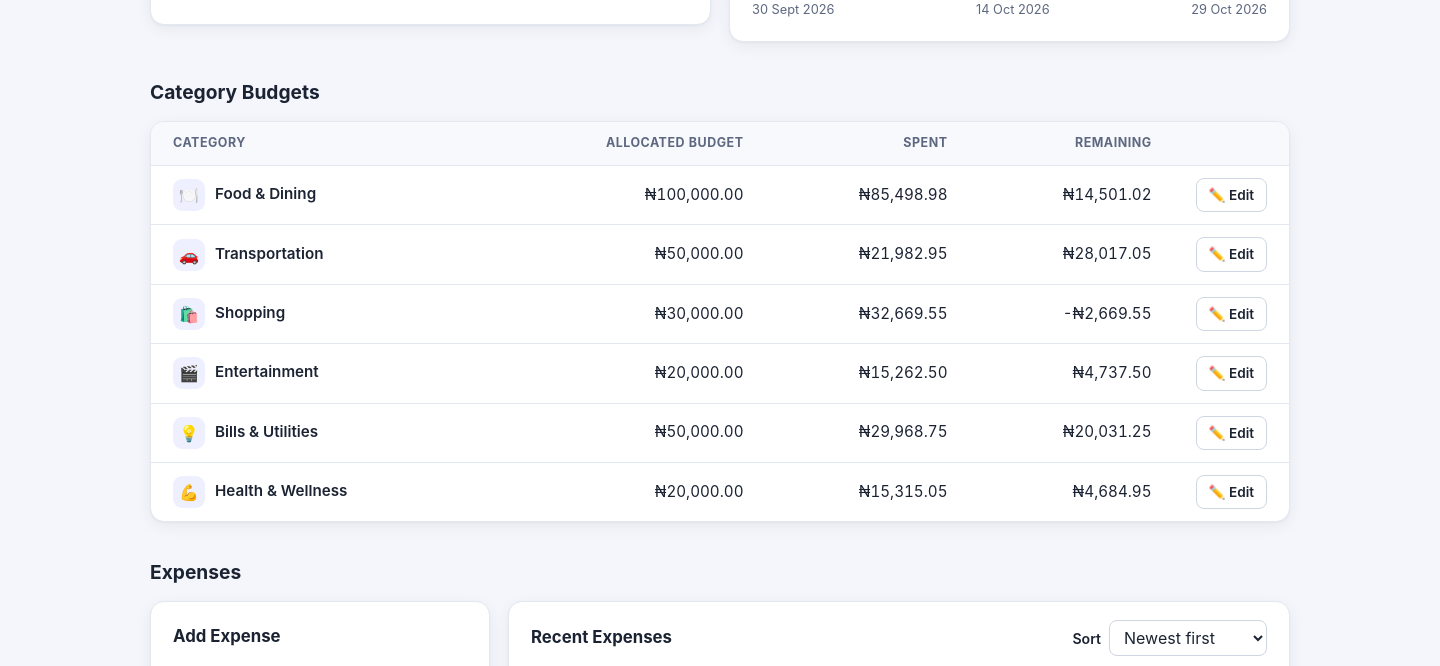
Test: App › category budgets › rejects a negative budget
(page scrolled)
Click the button with aria-label "Edit budget for Shopping" at x=1231, y=314, box x1=1196 y1=297 x2=1267 y2=331
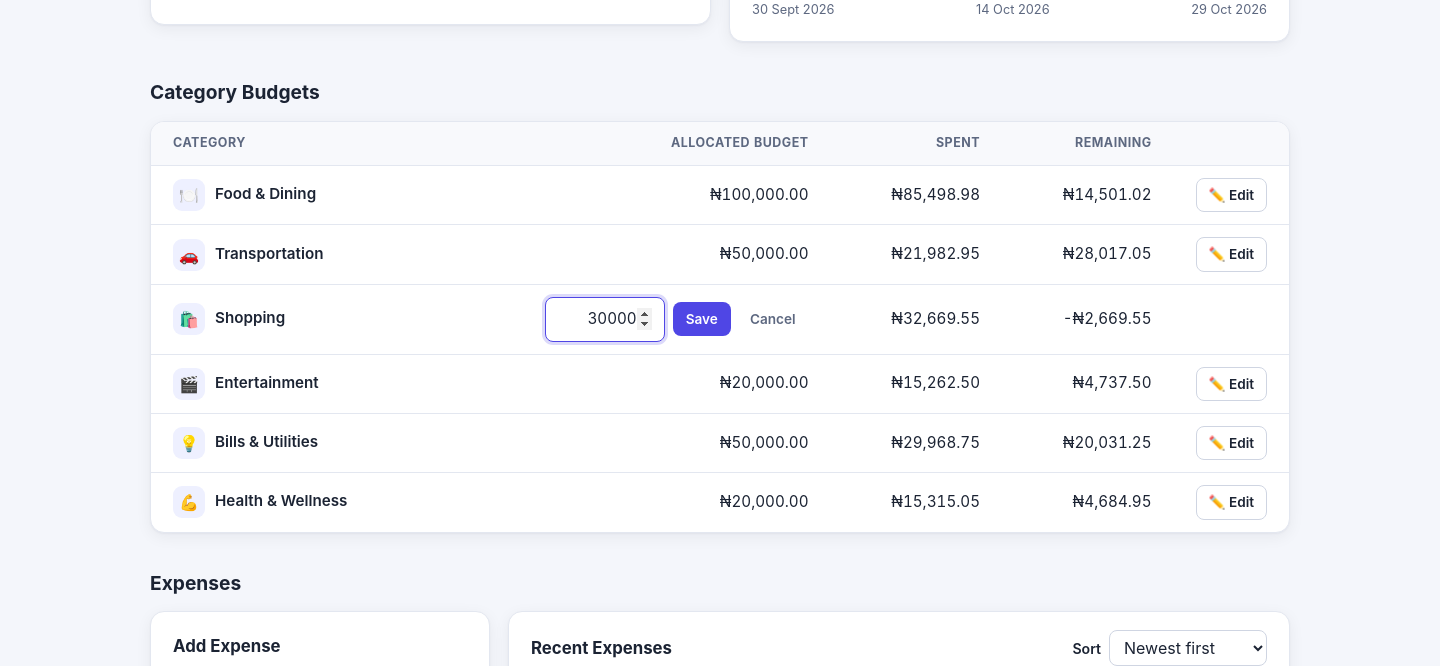
Replace the text in the number field named "Allocated budget for Shopping" with "-5" at x=605, y=319, box x1=545 y1=297 x2=665 y2=342
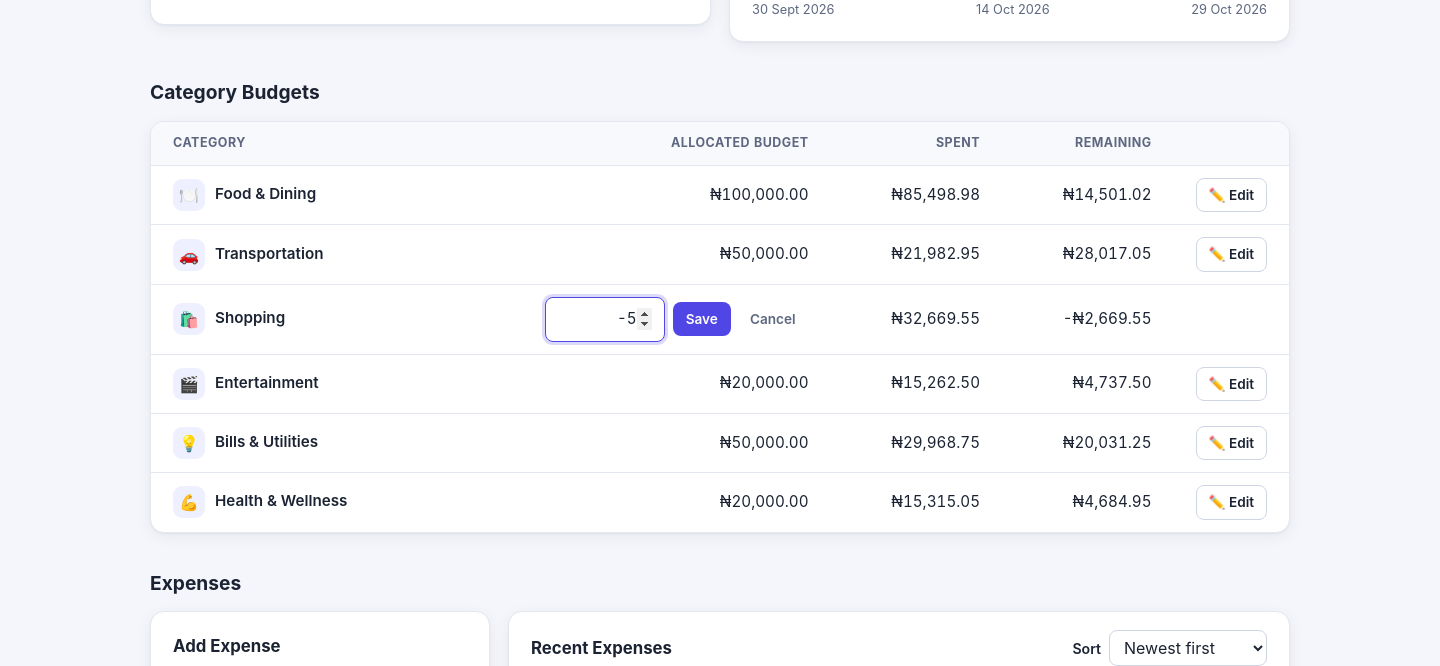
Click the button "Save" at x=702, y=319, box x1=673 y1=302 x2=731 y2=336
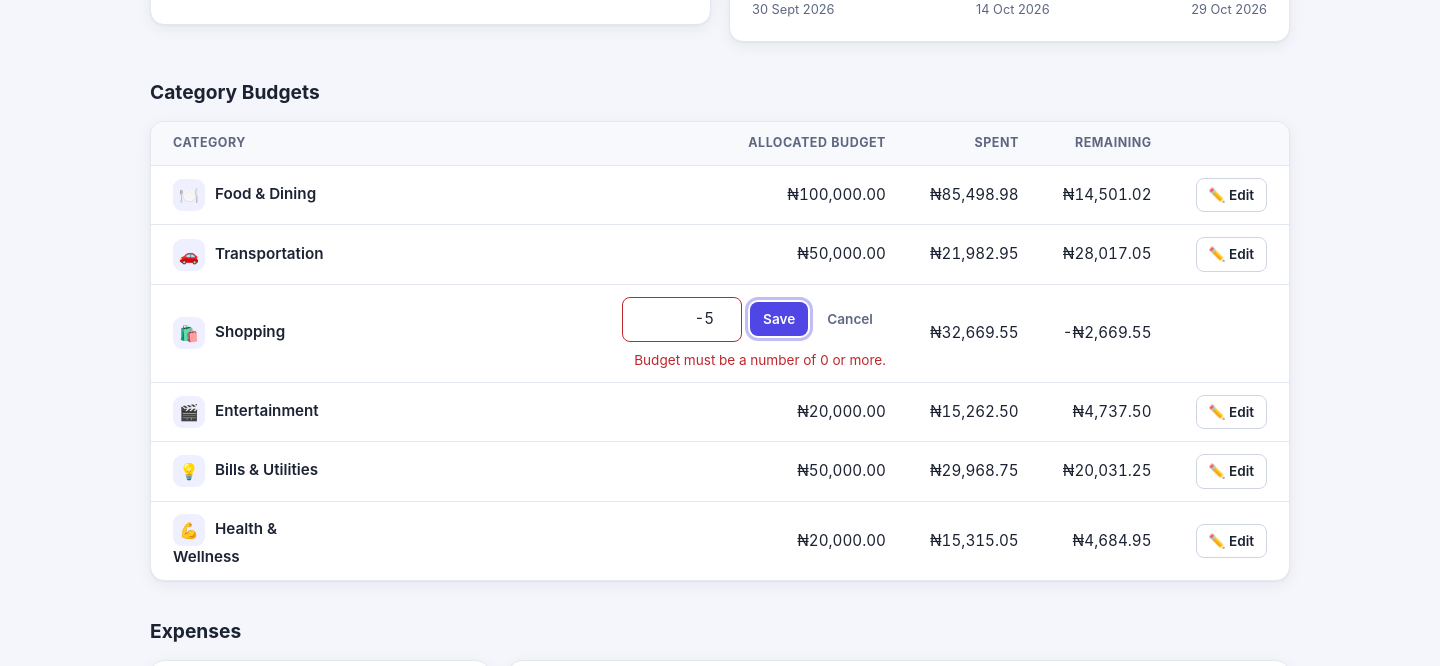
Now the message reads "Budget must be a number of 0 or more.", box x1=634 y1=352 x2=886 y2=368
